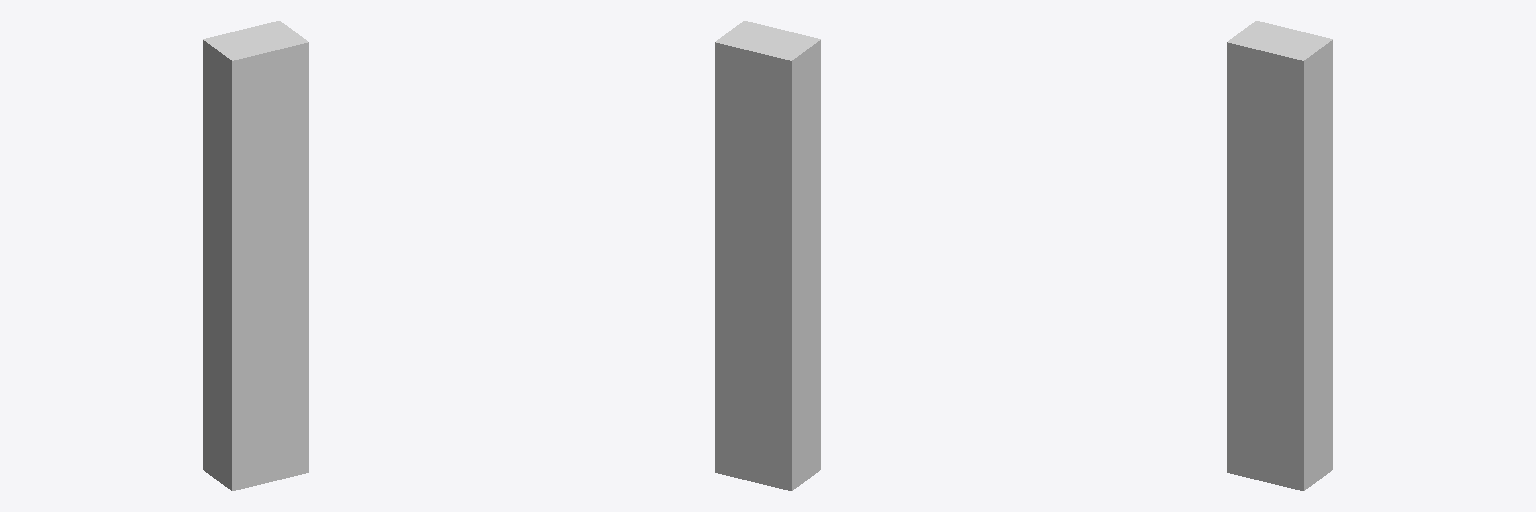
URDF robot description (merged):
<?xml version="1.0" encoding="utf-8"?>
<robot name="merged">

  <material name="white">
    <color rgba="0.9 0.9 0.9 1.0"/>
  </material>
  <material name="red">
    <color rgba="0.8984375 0.0 0.0703125 1"/>
  </material>

<link name="root">
  <inertial>
    <mass value="1"/>
    <inertia ixx="0.04" ixy="0.00" ixz="0.00" iyy="0.04" iyz="0.00" izz="0.02"/>
  </inertial>
</link>
  <link name="root_arm_1_link_1">
    <inertial>
      <mass value="1"/>
      <inertia ixx="0.04" ixy="0.00" ixz="0.00" iyy="0.04" iyz="0.00" izz="0.02"/>
    </inertial>
  </link>
  <link name="root_arm_1_link_2">
    <inertial>
      <mass value="1"/>
      <inertia ixx="0.04" ixy="0.00" ixz="0.00" iyy="0.04" iyz="0.00" izz="0.02"/>
    </inertial>
  </link>
  <joint name="root_x_axis_joint" type="prismatic">
    <parent link="root"/>
    <child link="root_arm_1_link_1"/>
    <axis xyz="1 0 0"/>
    <limit lower="-10" upper="10" velocity="0.50"/>
    <dynamics damping="10.0" friction="10"/>
  </joint>
  <joint name="root_y_axis_joint" type="prismatic">
    <parent link="root_arm_1_link_1"/>
    <child link="root_arm_1_link_2"/>
    <axis xyz="0 1 0"/>
    <limit lower="-10" upper="10" velocity="0.50"/>
    <dynamics damping="10.0" friction="10"/>
  </joint>
  <joint name="root_z_rotation_joint" type="continuous">
    <parent link="root_arm_1_link_2"/>
    <child link="mobile_base"/>
    <axis xyz="0 0 1"/>
    <dynamics damping="10.0" friction="1"/>
  </joint>

  <link name="mobile_base">
    <inertial>
      <mass value="1"/>
      <inertia ixx="0.04" ixy="0.00" ixz="0.00" iyy="0.04" iyz="0.00" izz="0.02"/>
    </inertial>
  </link>

  <joint name="linear_actuator_height" type="prismatic">
    <!-- <origin rpy="0 0 0" xyz="0 0 0.205"/> -->
    <parent link="mobile_base"/>
    <child link="adjustable_body"/>
    <axis xyz="0 0 1"/>
    <dynamics damping="10.0" friction="10"/>
    <limit lower="0" upper="1.6" velocity="0.50"/>
  </joint>

  <link name="adjustable_body">
    <inertial>
      <mass value="10"/>
      <inertia ixx="0.04" ixy="0.00" ixz="0.00" iyy="0.04" iyz="0.00" izz="0.02"/>
    </inertial>
    <visual>
      <origin rpy="0 0 0" xyz="0 0 -0.8"/>
      <geometry>
        <box size="0.3 0.2 1.6"/>
      </geometry>
      <material name="white"/>
    </visual>
    <collision>
      <origin rpy="0 0 0" xyz="0.0 0.0 -0.8"/>
      <geometry>
        <box size="0.3 0.2 1.6"/>
      </geometry>
    </collision>
  </link>

  <joint name="fixed_joint_to_body_base" type="fixed">
    <origin rpy="0 0 0" xyz="0 0 0"/>
    <parent link="adjustable_body"/>
    <child link="body_base_link"/>
  </joint>

  <link name="body_base_link">
    <visual>
      <geometry>
        <mesh filename="sciurus17_description/meshes/visual/Base.stl" scale="1.0 1.0 1.0"/>
      </geometry>
      <material name="white"/>
    </visual>
    <collision>
      <origin rpy="0 0 0" xyz="0.0 0.0 0.0"/>
      <geometry>
        <mesh filename="sciurus17_description/meshes/collision/Base.stl" scale="1.0 1.0 1.0"/>
      </geometry>
    </collision>
    <inertial>
      <origin rpy="0 0 0" xyz="-24.012e-03 0.139e-03 59.566e-03"/>
      <inertia ixx="6398092.663e-09" ixy="-6808.969e-09" ixz="-331509.04e-09" iyy="7611664.357e-09" iyz="2026.354e-09"
               izz="6331936.461e-09"/>
      <mass value="1722.937e-03"/>
    </inertial>
  </link>
  <joint name="waist_yaw_joint" type="fixed">
    <parent link="body_base_link"/>
    <child link="body_link"/>
    <origin rpy="0 0 0" xyz="0.0 0.0 0.1315"/>
    <limit effort="4.0" lower="-1.91986217719" upper="1.91986217719" velocity="5.969211435"/>
    <axis xyz="0 0 1"/>
    <dynamics damping="1.0e-6" friction="0.8"/>
  </joint>
  <link name="body_link">
    <visual>
      <geometry>
        <mesh filename="sciurus17_description/meshes/visual/Body.stl" scale="1.0 1.0 1.0"/>
      </geometry>
      <material name="white"/>
    </visual>
    <collision>
      <origin rpy="0 0 0" xyz="0.0 0.0 0.0"/>
      <geometry>
        <mesh filename="sciurus17_description/meshes/collision/Body.stl" scale="1.0 1.0 1.0"/>
      </geometry>
    </collision>
    <inertial>
      <origin rpy="0 0 0" xyz="57.11e-03 0.372e-03 238.229e-03"/>
      <inertia ixx="15601031.58e-09" ixy="-15890.903e-09" ixz="-3805596.494e-09" iyy="13969734.5e-09"
               iyz="-20695.221e-09" izz="8327993.097e-09"/>
      <mass value="1482.929e-03"/>
    </inertial>
  </link>

  <!--  right arm right_panda-->
  <link name="right_panda_link1">
    <visual>
      <geometry>
        <mesh filename="franka_description/meshes/visual/link1.dae"/>
      </geometry>
    </visual>
    <collision>
      <geometry>
        <mesh filename="franka_description/meshes/collision/link1.stl"/>
      </geometry>
    </collision>
  </link>
  <joint name="right_panda_joint1" type="revolute">
    <safety_controller k_position="100.0" k_velocity="40.0" soft_lower_limit="-2.8973" soft_upper_limit="2.8973"/>
    <parent link="body_link"/>
    <child link="right_panda_link1"/>
    <axis xyz="0 0 1"/>
    <limit effort="87" lower="-2.8973" upper="2.8973" velocity="2.1750"/>
    <origin rpy="1.57079 0 0" xyz="0.08083 -0.3012 0.2885"/>
  </joint>
  <link name="right_panda_link2">
    <visual>
      <geometry>
        <mesh filename="franka_description/meshes/visual/link2.dae"/>
      </geometry>
    </visual>
    <collision>
      <geometry>
        <mesh filename="franka_description/meshes/collision/link2.stl"/>
      </geometry>
    </collision>
  </link>
  <joint name="right_panda_joint2" type="revolute">
    <safety_controller k_position="100.0" k_velocity="40.0" soft_lower_limit="-1.7628" soft_upper_limit="1.7628"/>
    <origin rpy="-1.57079632679 0 0" xyz="0 0 0"/>
    <parent link="right_panda_link1"/>
    <child link="right_panda_link2"/>
    <axis xyz="0 0 1"/>
    <limit effort="87" lower="-1.7628" upper="1.7628" velocity="2.1750"/>
  </joint>
  <link name="right_panda_link3">
    <visual>
      <geometry>
        <mesh filename="franka_description/meshes/visual/link3.dae"/>
      </geometry>
    </visual>
    <collision>
      <geometry>
        <mesh filename="franka_description/meshes/collision/link3.stl"/>
      </geometry>
    </collision>
  </link>
  <joint name="right_panda_joint3" type="revolute">
    <safety_controller k_position="100.0" k_velocity="40.0" soft_lower_limit="-2.8973" soft_upper_limit="2.8973"/>
    <origin rpy="1.57079632679 0 0" xyz="0 -0.316 0"/>
    <parent link="right_panda_link2"/>
    <child link="right_panda_link3"/>
    <axis xyz="0 0 1"/>
    <limit effort="87" lower="-2.8973" upper="2.8973" velocity="2.1750"/>
  </joint>
  <link name="right_panda_link4">
    <visual>
      <geometry>
        <mesh filename="franka_description/meshes/visual/link4.dae"/>
      </geometry>
    </visual>
    <collision>
      <geometry>
        <mesh filename="franka_description/meshes/collision/link4.stl"/>
      </geometry>
    </collision>
  </link>
  <joint name="right_panda_joint4" type="revolute">
    <safety_controller k_position="100.0" k_velocity="40.0" soft_lower_limit="-3.0718" soft_upper_limit="-0.0698"/>
    <origin rpy="1.57079632679 0 0" xyz="0.0825 0 0"/>
    <parent link="right_panda_link3"/>
    <child link="right_panda_link4"/>
    <axis xyz="0 0 1"/>
    <limit effort="87" lower="-3.0718" upper="-0.0698" velocity="2.1750"/>
  </joint>
  <link name="right_panda_link5">
    <visual>
      <geometry>
        <mesh filename="franka_description/meshes/visual/link5.dae"/>
      </geometry>
    </visual>
    <collision>
      <geometry>
        <mesh filename="franka_description/meshes/collision/link5.stl"/>
      </geometry>
    </collision>
  </link>
  <joint name="right_panda_joint5" type="revolute">
    <safety_controller k_position="100.0" k_velocity="40.0" soft_lower_limit="-2.8973" soft_upper_limit="2.8973"/>
    <origin rpy="-1.57079632679 0 0" xyz="-0.0825 0.384 0"/>
    <parent link="right_panda_link4"/>
    <child link="right_panda_link5"/>
    <axis xyz="0 0 1"/>
    <limit effort="12" lower="-2.8973" upper="2.8973" velocity="2.6100"/>
  </joint>
  <link name="right_panda_link6">
    <visual>
      <geometry>
        <mesh filename="franka_description/meshes/visual/link6.dae"/>
      </geometry>
    </visual>
    <collision>
      <geometry>
        <mesh filename="franka_description/meshes/collision/link6.stl"/>
      </geometry>
    </collision>
  </link>
  <joint name="right_panda_joint6" type="revolute">
    <safety_controller k_position="100.0" k_velocity="40.0" soft_lower_limit="-0.0175" soft_upper_limit="3.7525"/>
    <origin rpy="1.57079632679 0 0" xyz="0 0 0"/>
    <parent link="right_panda_link5"/>
    <child link="right_panda_link6"/>
    <axis xyz="0 0 1"/>
    <limit effort="12" lower="-0.0175" upper="3.7525" velocity="2.6100"/>
  </joint>
  <link name="right_panda_link7">
    <visual>
      <geometry>
        <mesh filename="franka_description/meshes/visual/link7.dae"/>
      </geometry>
    </visual>
    <collision>
      <geometry>
        <mesh filename="franka_description/meshes/collision/link7.stl"/>
      </geometry>
    </collision>
  </link>
  <joint name="right_panda_joint7" type="revolute">
    <safety_controller k_position="100.0" k_velocity="40.0" soft_lower_limit="-2.8973" soft_upper_limit="2.8973"/>
    <origin rpy="1.57079632679 0 0" xyz="0.088 0 0"/>
    <parent link="right_panda_link6"/>
    <child link="right_panda_link7"/>
    <axis xyz="0 0 1"/>
    <limit effort="12" lower="-2.8973" upper="2.8973" velocity="2.6100"/>
  </joint>
  <link name="right_panda_tool_tip"/>
  <link name="right_panda_link8">
    <inertial>
      <mass value="0.1"/>
      <inertia ixx="4e-4" ixy="0.0" ixz="0.0" iyy="4e-4" iyz="0.0" izz="4e-4"/>
    </inertial>
  </link>
  <joint name="right_panda_joint8" type="fixed">
    <origin rpy="0 0 0" xyz="0 0 0.107"/>
    <parent link="right_panda_link7"/>
    <child link="right_panda_link8"/>
    <axis xyz="0 0 0"/>
  </joint>
  <joint name="right_panda_hand_joint" type="fixed">
    <parent link="right_panda_link8"/>
    <child link="right_panda_hand"/>
    <origin rpy="0 0 -0.785398163397" xyz="0 0 0"/>
  </joint>
  <link name="right_panda_hand">
    <visual>
      <geometry>
        <mesh filename="franka_description/meshes/visual/hand.dae"/>
      </geometry>
    </visual>
    <collision>
      <geometry>
        <mesh filename="franka_description/meshes/collision/hand.stl"/>
      </geometry>
    </collision>
  </link>
  <joint name="right_panda_tool_tip_joint" type="fixed">
    <origin rpy="0 -1.5708 0" xyz="0 0 0.1"/>
    <parent link="right_panda_hand"/>
    <child link="right_panda_tool_tip"/>
    <axis xyz="0 0 0"/>
  </joint>
  <link name="right_panda_leftfinger">
    <visual>
      <geometry>
        <mesh filename="franka_description/meshes/visual/finger.dae"/>
      </geometry>
    </visual>
    <collision>
      <geometry>
        <mesh filename="package://franka_description/meshes/collision/finger.stl"/>
      </geometry>
    </collision>
  </link>
  <link name="right_panda_rightfinger">
    <visual>
      <origin rpy="0 0 3.14159265359" xyz="0 0 0"/>
      <geometry>
        <mesh filename="franka_description/meshes/visual/finger.dae"/>
      </geometry>
    </visual>
    <collision>
      <origin rpy="0 0 3.14159265359" xyz="0 0 0"/>
      <geometry>
        <mesh filename="package://franka_description/meshes/collision/finger.stl"/>
      </geometry>
    </collision>
  </link>
  <joint name="right_panda_finger_joint1" type="prismatic">
    <parent link="right_panda_hand"/>
    <child link="right_panda_leftfinger"/>
    <origin rpy="0 0 0" xyz="0 0 0.0584"/>
    <axis xyz="0 1 0"/>
    <limit effort="20" lower="0.0" upper="0.04" velocity="0.2"/>
  </joint>
  <joint name="right_panda_finger_joint2" type="prismatic">
    <parent link="right_panda_hand"/>
    <child link="right_panda_rightfinger"/>
    <origin rpy="0 0 0" xyz="0 0 0.0584"/>
    <axis xyz="0 -1 0"/>
    <limit effort="20" lower="0.0" upper="0.04" velocity="0.2"/>
    <mimic joint="right_panda_finger_joint1"/>
  </joint>



</robot>

--- Facts derived from the render (not from the file) ---
3 views of the same robot in one strip: view 1: azimuth 30°, elevation 25°; view 2: azimuth 150°, elevation 25°; view 3: azimuth 330°, elevation 25° (orthographic).
Robot: merged — 19 links, 18 joints (7 revolute, 1 continuous, 5 prismatic, 5 fixed); root link root; default pose: all joints at 0 but 1 set to mid-range because 0 is outside their limits (right_panda_joint4 = -1.57).
Visible links, largest first — view 1: adjustable_body; view 2: adjustable_body; view 3: adjustable_body.
Link boxes in pixels (<box>): adjustable_body: <box>203,21,308,490</box>; adjustable_body: <box>715,21,820,490</box>; adjustable_body: <box>1227,21,1332,490</box>.
Bounding box of the posed robot: 0.3 × 0.2 × 1.6 m (x, y, z).
Meshes: 11 distinct files referenced, 0 mesh visuals loaded (none loaded); not drawn: 12 (reference not matched to a file when rendering).